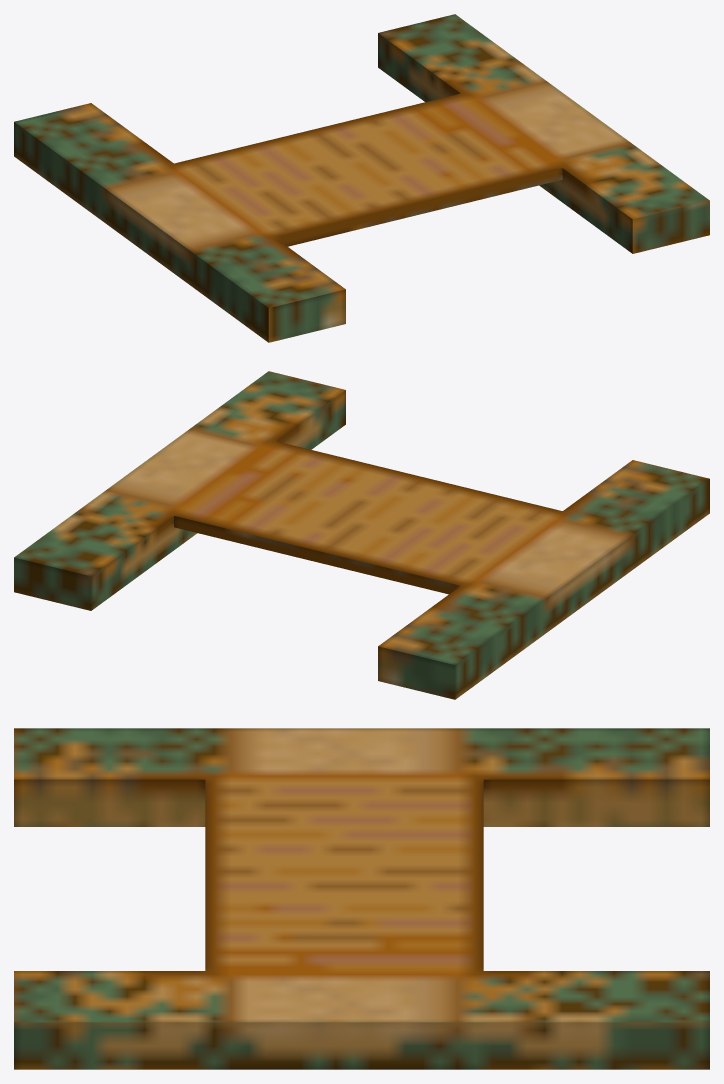
File: 3 River.fbx
3 renders of one model, top to bottom at view 1: azimuth 30°, elevation 25°; view 2: azimuth 150°, elevation 25°; view 3: azimuth 270°, elevation 25°, orthographic. The views are drawn at different scales.
Visible parts, largest first — view 1: Untitled; view 2: Untitled; view 3: Untitled.
Boxes of the visible parts, <box> form: Untitled: <box>14,14,709,342</box>; Untitled: <box>14,371,709,699</box>; Untitled: <box>14,728,709,1069</box>.
Bounding box in the file's own units: 400 × 30 × 400.
Materials: 1 (1 with a texture image).
